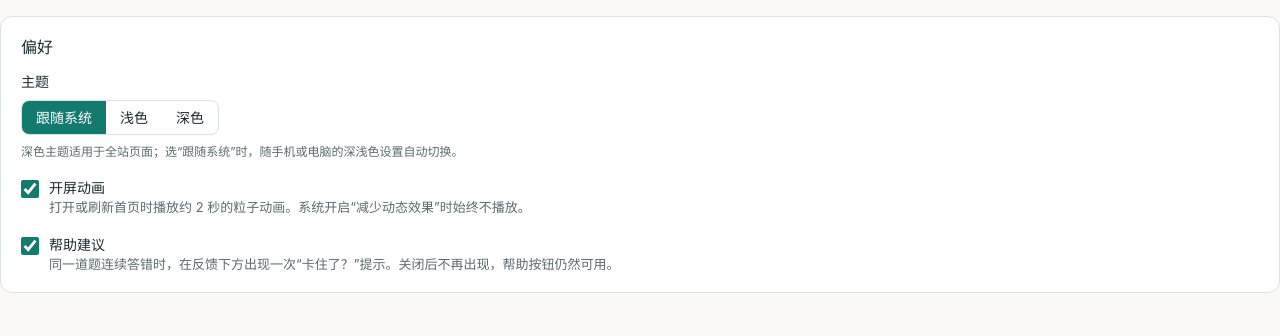
Test case: warns when the browser refuses to store preferences
Click the radio button labelled "浅色" at (134, 118), box left=120, top=109, right=148, bottom=126
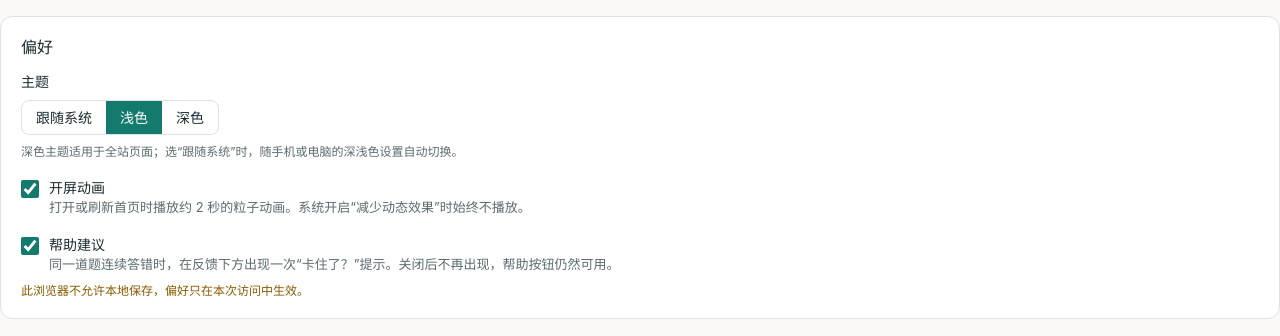
Expected: the message shows "不允许本地保存", left=21, top=283, right=309, bottom=298
